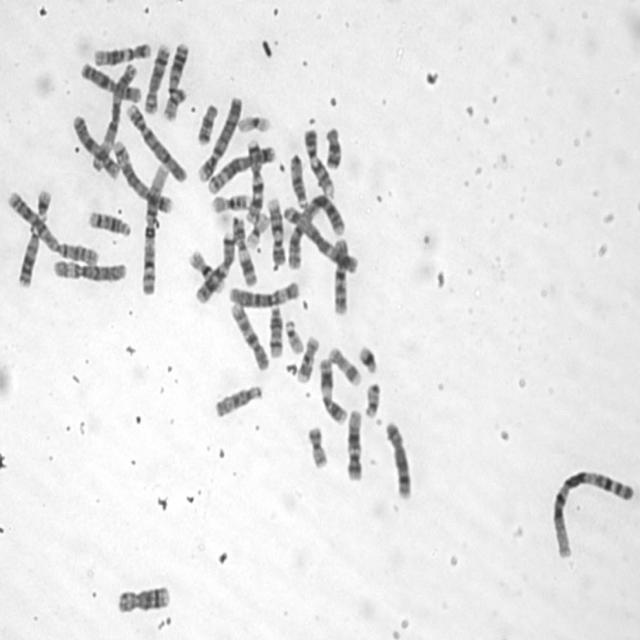A1: (548, 463, 636, 560), (140, 161, 172, 297)
A2: (3, 185, 101, 266), (284, 193, 350, 272)
A3: (89, 57, 140, 173), (282, 198, 358, 274)
B4: (122, 98, 189, 185), (195, 91, 244, 183)
B5: (110, 135, 175, 215), (205, 141, 278, 195)
C10: (227, 298, 272, 372), (329, 233, 352, 317)
C11: (316, 353, 348, 425), (229, 212, 260, 286)
C12: (90, 37, 153, 67), (343, 405, 364, 482)
C6: (225, 276, 302, 309), (49, 255, 129, 284)
C7: (192, 227, 236, 304), (242, 135, 267, 225)
C8: (382, 415, 414, 501), (142, 39, 172, 114)
C9: (300, 124, 336, 198), (264, 193, 287, 267)
D13: (15, 222, 42, 288), (165, 38, 191, 95)
D14: (85, 205, 133, 238), (265, 300, 285, 358)
D15: (211, 380, 265, 419), (287, 150, 310, 210)
E16: (186, 246, 227, 296), (208, 189, 252, 213)
E17: (326, 342, 364, 387), (294, 332, 320, 384)
E18: (194, 99, 220, 146), (322, 122, 344, 170)
F19: (243, 208, 270, 250), (235, 110, 272, 134)
F20: (304, 421, 330, 469), (160, 82, 188, 122)
G21: (355, 340, 380, 375), (34, 184, 54, 220)
G22: (282, 315, 306, 355), (362, 378, 382, 419)
X: (69, 110, 121, 180), (77, 57, 143, 104)
